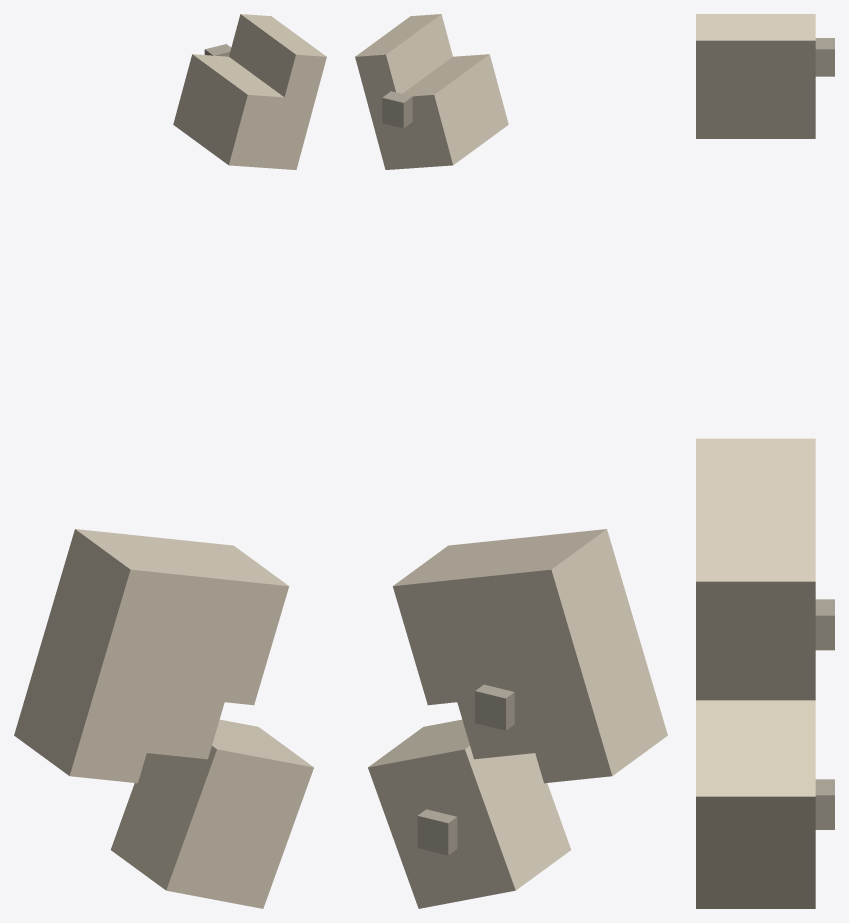
The model's file is historic-palestine-10_20_3520_3142.glb.
The picture shows the model from 3 angles, left to right: view 1: azimuth 30°, elevation 25°; view 2: azimuth 150°, elevation 25°; view 3: azimuth 270°, elevation 25°; orthographic projection. The views are drawn at different scales.
Visible parts, largest first — view 1: Building_, Building_.001, Building_.002; view 2: Building_, Building_.001, Building_.002, Roof access hut .001, Roof access hut, Roof access hut .002; view 3: Building_, Building_.001, Building_.002, Roof access hut, Roof access hut .001, Roof access hut .002.
Part boxes in pixels (x1=…): Building_: x1=14, y1=529, x2=289, y2=783; Building_.001: x1=110, y1=719, x2=313, y2=908; Building_.002: x1=173, y1=14, x2=326, y2=169; Building_: x1=392, y1=529, x2=667, y2=783; Building_.001: x1=368, y1=719, x2=571, y2=908; Building_.002: x1=355, y1=14, x2=508, y2=169; Roof access hut .001: x1=417, y1=809, x2=457, y2=855; Roof access hut: x1=475, y1=684, x2=514, y2=730; Roof access hut .002: x1=382, y1=91, x2=412, y2=128; Building_: x1=696, y1=438, x2=815, y2=700; Building_.001: x1=696, y1=700, x2=815, y2=908; Building_.002: x1=696, y1=14, x2=815, y2=138; Roof access hut: x1=815, y1=599, x2=834, y2=650; Roof access hut .001: x1=815, y1=779, x2=834, y2=829; Roof access hut .002: x1=815, y1=38, x2=834, y2=76.
Size of the model in its own units: 20.05 by 63.01 by 8.7.
